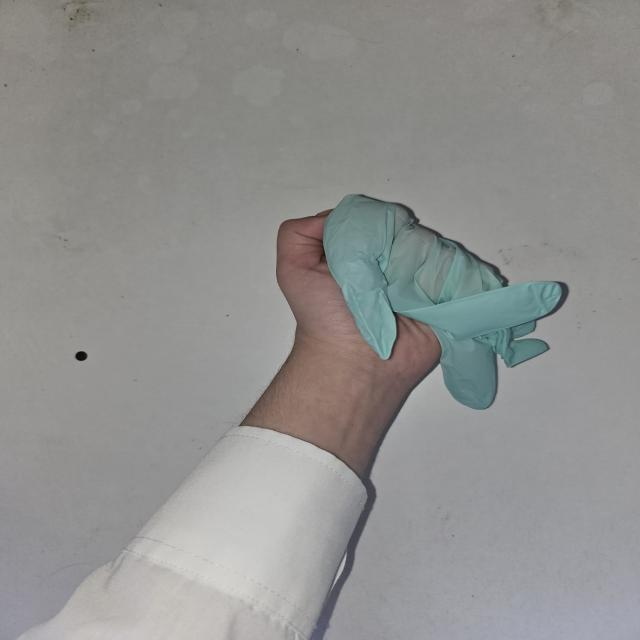glove_partial: (271, 192, 565, 411)
